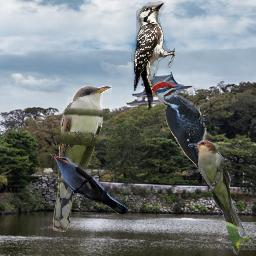Cuckoo: (53, 85, 112, 232), (188, 140, 249, 255), (50, 153, 128, 214)
Woodpecker: (149, 81, 218, 187), (130, 0, 175, 113)
